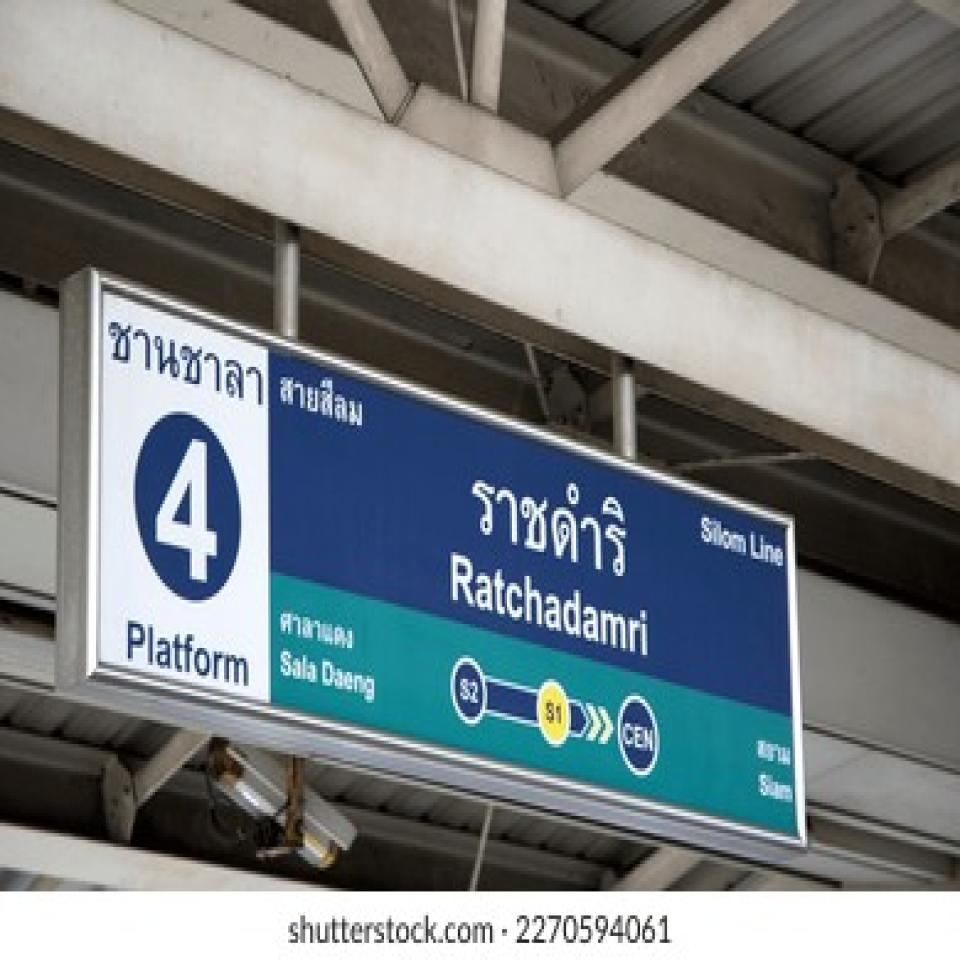signage: (451, 392, 661, 815)
